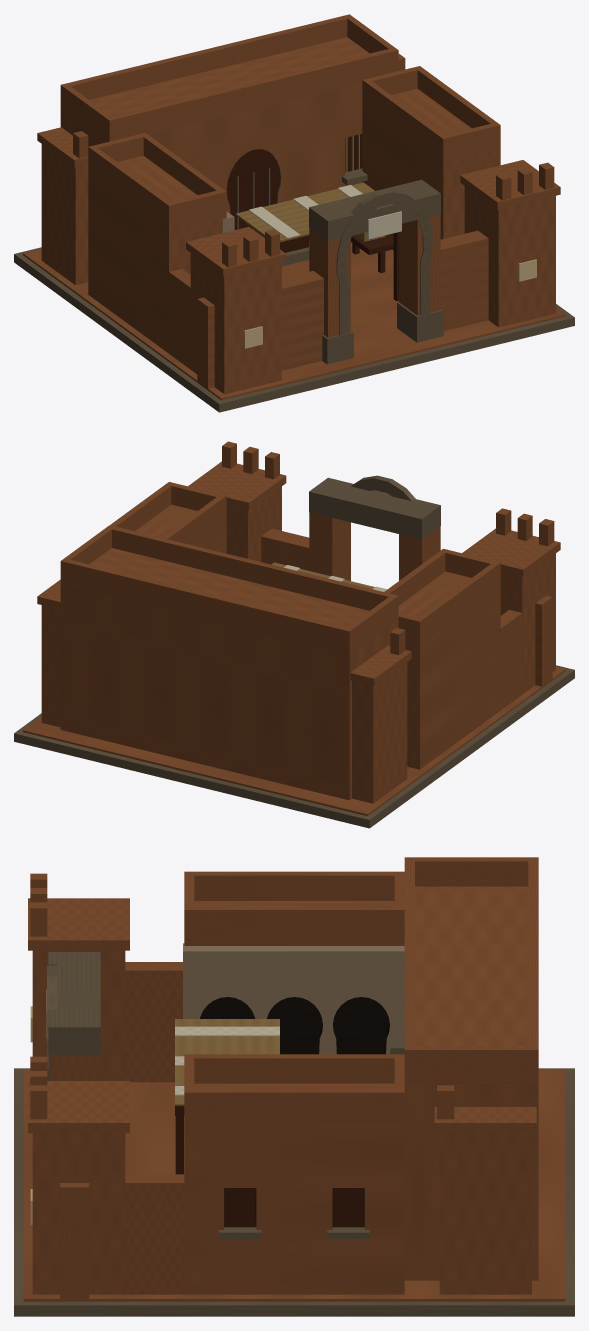
Rendered from Berber_TC_Age2.fbx.
The picture shows the model from 3 angles, top to bottom: view 1: azimuth 30°, elevation 25°; view 2: azimuth 150°, elevation 25°; view 3: azimuth 270°, elevation 25°; orthographic projection. The views are drawn at different scales.
Visible parts, largest first — view 1: rear_council_hall, west_range, council_courtyard, corner_watch_room, corner_watch_room.002, foundation, hall_parapet_long, hall_roof, east_range, hall_parapet_long.001, corner_watch_room.001, front_enclosure (+29 smaller); view 2: rear_council_hall, west_range, hall_parapet_long.001, foundation, hall_roof, corner_watch_room.001, hall_parapet_long, council_courtyard, entry_lintel, corner_watch_room, corner_watch_room.002, corner_flat_cap.002 (+20 smaller); view 3: east_range, hall_roof, council_courtyard, corner_watch_room.003, courtyard_arcade_wall, foundation, corner_watch_room.002, rear_council_hall, side_enclosure_link.001, east_parapet_end.001, west_range, side_enclosure_link (+27 smaller).
Part boxes in pixels (box(x1,y1,x2,y2)): rear_council_hall: box(60, 83, 362, 213); west_range: box(88, 171, 226, 353); council_courtyard: box(23, 242, 565, 400); corner_watch_room: box(190, 253, 281, 394); corner_watch_room.002: box(464, 186, 555, 327); foundation: box(14, 247, 574, 412); hall_parapet_long: box(106, 47, 398, 141); hall_roof: box(60, 37, 398, 142); east_range: box(362, 104, 500, 250); hall_parapet_long.001: box(60, 14, 352, 107); corner_watch_room.001: box(41, 144, 88, 285); front_enclosure: box(197, 271, 323, 388); rear_council_hall: box(60, 585, 398, 800); west_range: box(405, 587, 500, 769); hall_parapet_long.001: box(60, 558, 353, 652); foundation: box(14, 665, 574, 828); hall_roof: box(60, 548, 398, 655); corner_watch_room.001: box(352, 662, 407, 803); hall_parapet_long: box(106, 525, 398, 619); council_courtyard: box(23, 667, 565, 815); entry_lintel: box(309, 477, 440, 539); corner_watch_room: box(500, 553, 555, 694); corner_watch_room.002: box(226, 486, 281, 561); corner_flat_cap.002: box(188, 461, 286, 510); east_range: box(184, 1125, 404, 1294); hall_roof: box(404, 886, 538, 1082); council_courtyard: box(23, 1069, 565, 1301); corner_watch_room.003: box(439, 1133, 531, 1294); courtyard_arcade_wall: box(183, 943, 404, 1116); foundation: box(14, 1068, 574, 1316); corner_watch_room.002: box(32, 1133, 125, 1294); rear_council_hall: box(404, 1083, 538, 1280); side_enclosure_link.001: box(125, 1174, 184, 1294); east_parapet_end.001: box(194, 1088, 394, 1121); west_range: box(184, 943, 404, 1054); side_enclosure_link: box(125, 962, 182, 1082).
Bounding box in the file's own units: 800 × 385 × 800.
7 materials, 7 textured.
